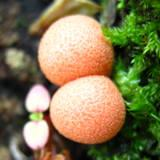poisonous_mushroom: (37, 13, 114, 86), (49, 74, 126, 144), (22, 119, 49, 150), (24, 83, 50, 113)
